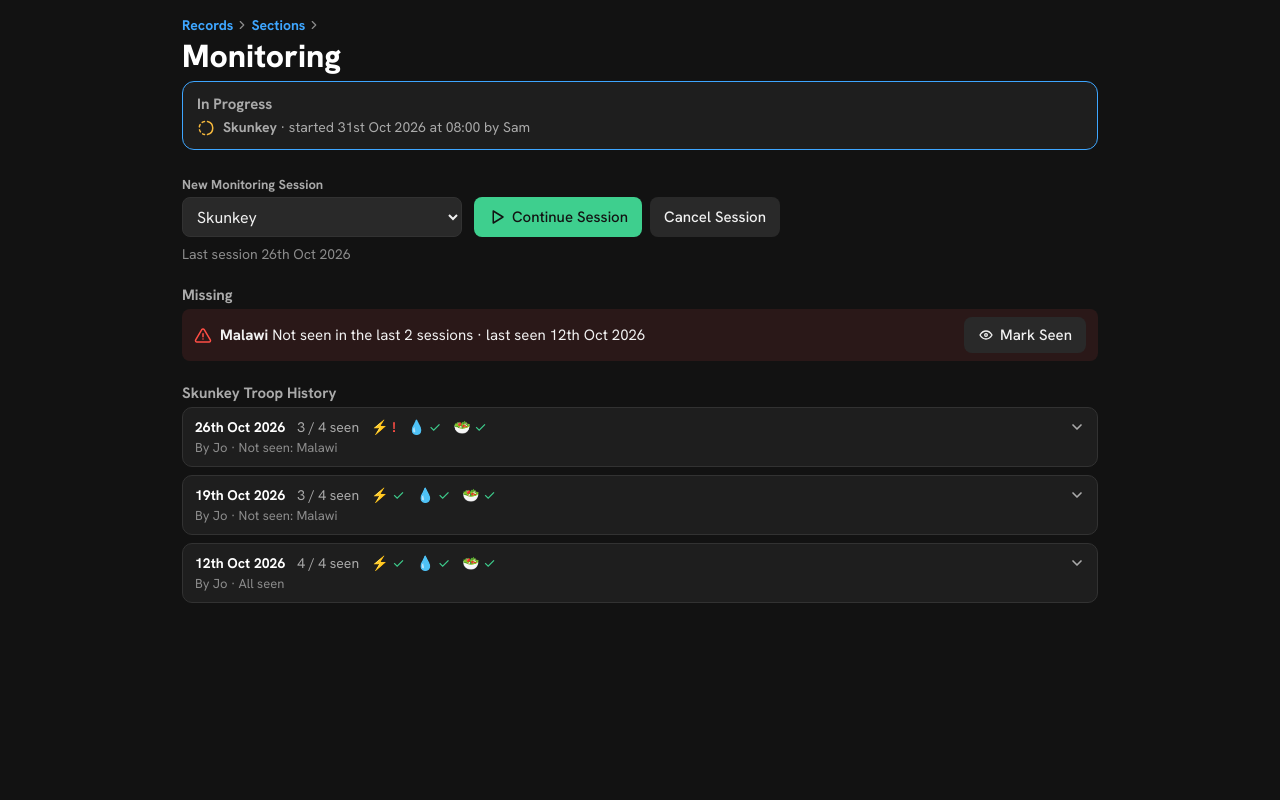
Scenario: by the troop picker: Continue Session and Cancel Session for your own
Expected: the button "Start Session" is not shown
Click the button "Cancel Session" at (715, 217), box [650,197,780,237]
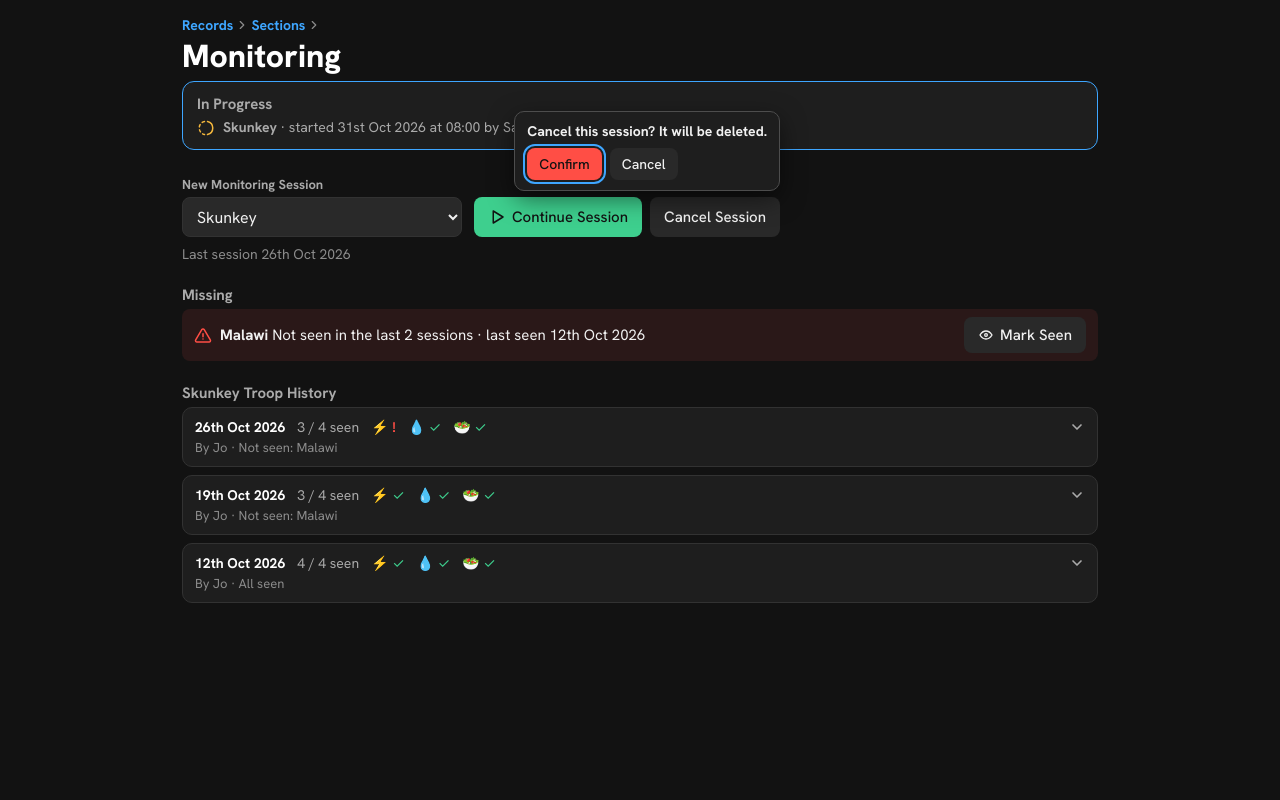
Result: the text "Cancel this session? It will be deleted." is shown at [527,122,767,140]
Click the button "Confirm" at (565, 164), box [527,148,602,180]
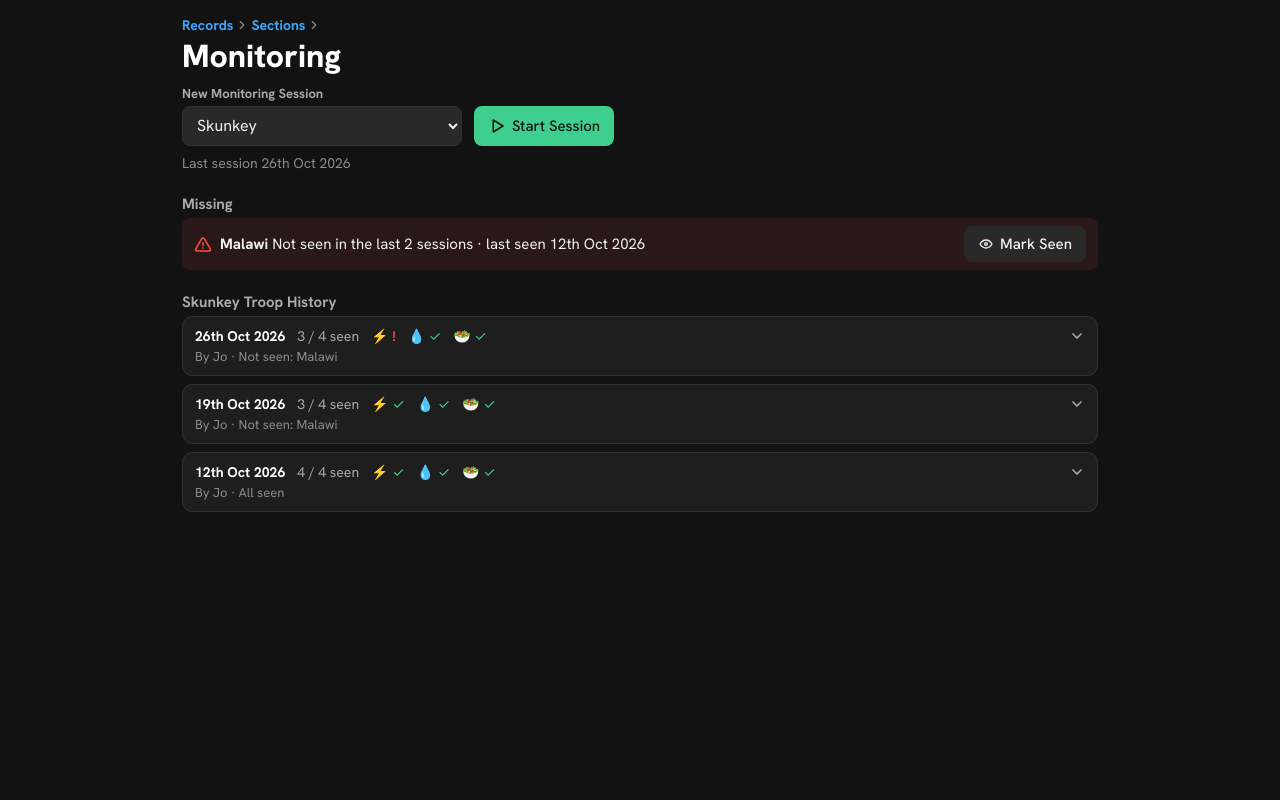
Result: the button "Start Session" is shown at [474,106,614,146]
